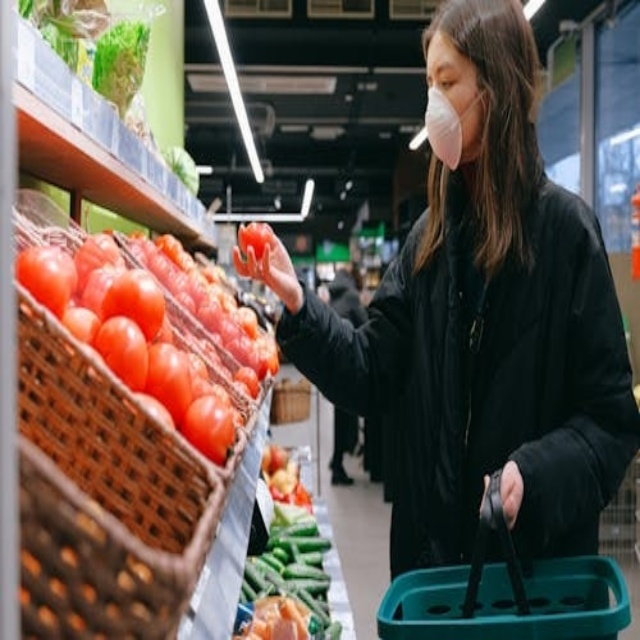Mascara: (424, 85, 473, 169)
Sin_gafas: (421, 58, 472, 98)
Sin_guantes: (229, 220, 300, 312), (479, 458, 523, 533)
